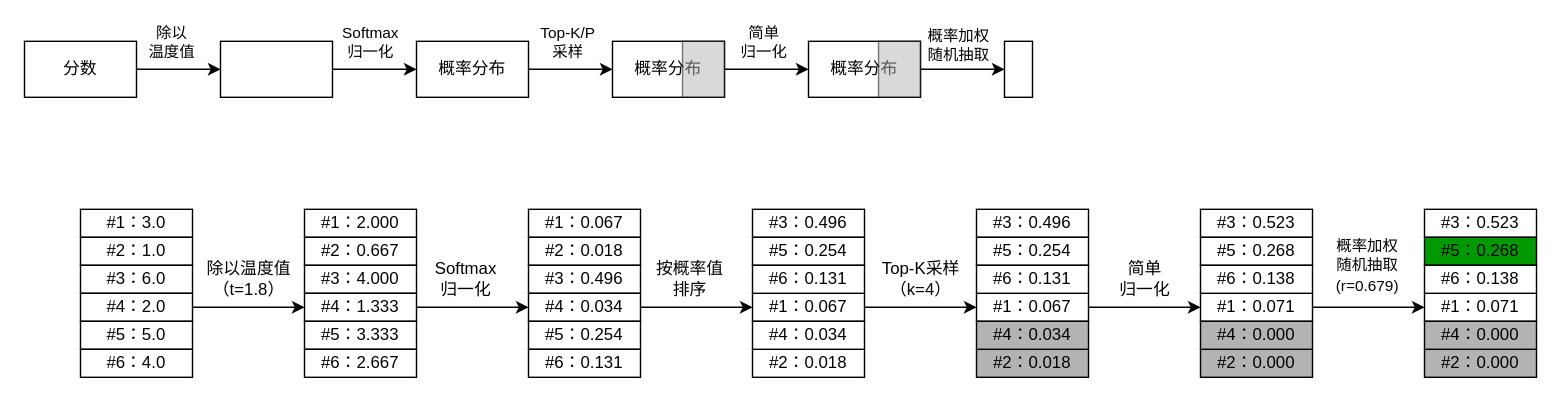
Some shapes in this 1561 by 402 pixel diagram are drawn without their labels. Each missing label, with the centre of its shape:
"索引" goes at point 1017,68.
"调整后的 分数" goes at point 275,68.
